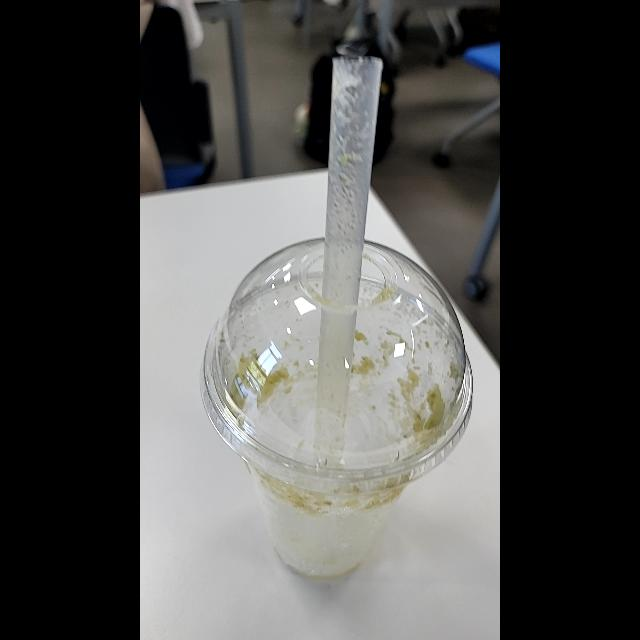plastic_cup: (200, 234, 480, 584)
plastic_cup_lid: (200, 236, 476, 494)
straw: (308, 48, 389, 456)
